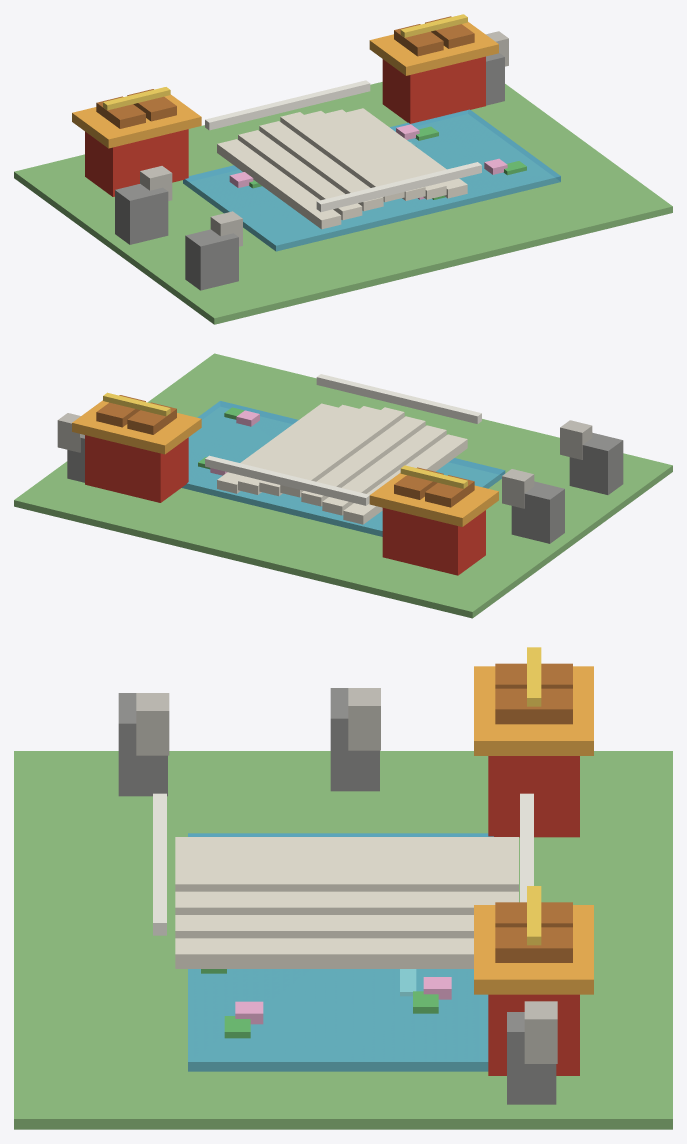
The model's file is voxel-beijing-garden-pond.gltf.
3 renders of one model, top to bottom at view 1: azimuth 30°, elevation 25°; view 2: azimuth 150°, elevation 25°; view 3: azimuth 270°, elevation 25°, orthographic. The views are drawn at different scales.
Bounding box in the file's own units: 7.4 × 1.44 × 5.6.
